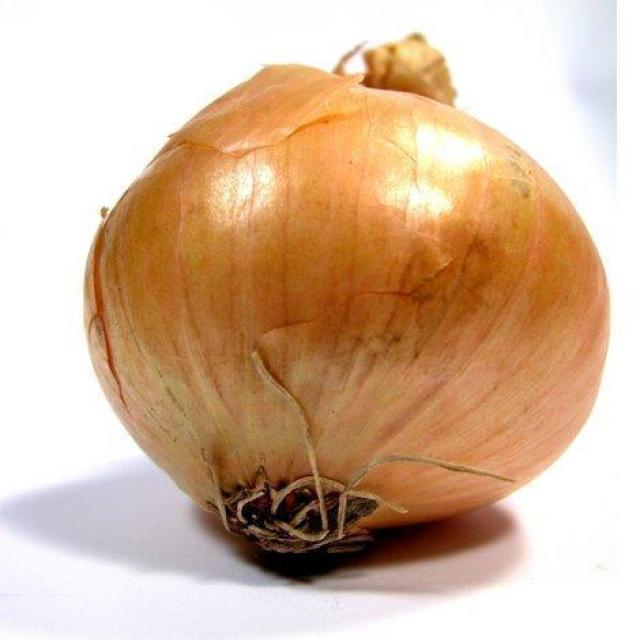Onion: (83, 36, 611, 566)
